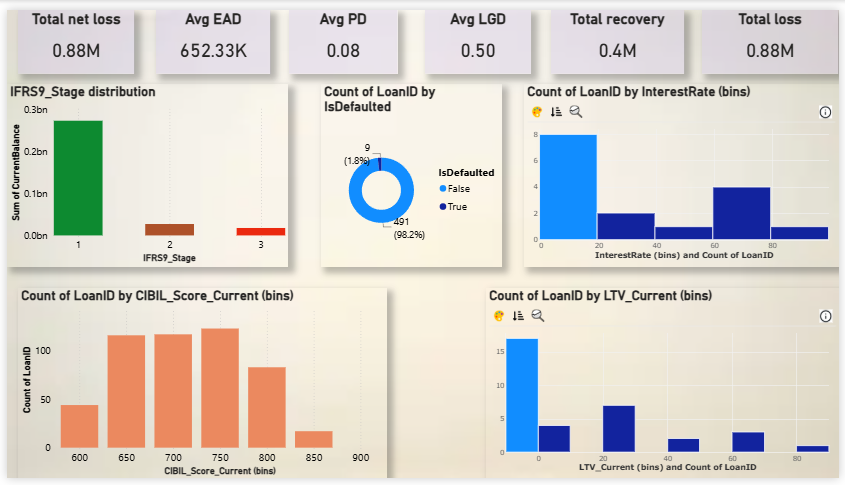

Layout of this report page (visuals, bound fields, positions):
{"tool":"powerbi","page":{"name":"portfolio risk dashboard","canvas":[1280,720],"ordinal":1},"visuals":[{"type":"kpi","title":"Avg PD ","fields":{"Indicator":["loans.Avg PD"],"TrendLine":["Date.Date"]},"box":[433.3,0,166.7,98.4],"z":0},{"type":"kpi","title":"Avg LGD ","fields":{"Indicator":["loans.Avg LGD"],"TrendLine":["Date.Date"]},"box":[642.9,0,163.5,98.4],"z":1000},{"type":"kpi","title":"Avg EAD ","fields":{"Indicator":["loans.Avg EAD"],"TrendLine":["Date.Date"]},"box":[228.6,0,176.2,98.4],"z":2000},{"type":"kpi","title":"Total net loss","fields":{"Indicator":["loans.Total net loss"],"TrendLine":["Date.Date"]},"box":[17.5,0,179.4,98.4],"z":3000},{"type":"kpi","title":"Total recovery ","fields":{"Indicator":["loans.Total recovery"],"TrendLine":["Date.Date"]},"box":[836.5,0,204.8,98.4],"z":4000},{"type":"kpi","title":"Total loss","fields":{"Indicator":["loans.Total net loss"],"TrendLine":["Date.Date"]},"box":[1069.8,0,209.5,98.4],"z":5000},{"type":"clusteredColumnChart","title":"IFRS9_Stage distribution","fields":{"Category":["loans.IFRS9_Stage"],"Y":["Sum(loans.CurrentBalance)"]},"box":[0,114.3,433.3,281],"z":6000},{"type":"donutChart","fields":{"Category":["loans.IsDefaulted"],"Y":["CountNonNull(loans.LoanID)"]},"box":[482.5,114.3,277.8,281],"z":7000},{"type":"histogramF963F133BA02A0B35D286F09F80E9C78","fields":{"col_2":["loans.InterestRate (bins)"],"col_4":["CountNonNull(loans.LoanID)"]},"box":[795.2,114.3,484.1,281],"z":8000},{"type":"histogramF963F133BA02A0B35D286F09F80E9C78","fields":{"col_2":["loans.LTV_Current (bins)"],"col_4":["CountNonNull(loans.LoanID)"]},"box":[736.5,427,542.9,293.7],"z":9000},{"type":"clusteredColumnChart","fields":{"Category":["loans.CIBIL_Score_Current (bins)"],"Y":["Count(loans.LoanID)"]},"box":[17.5,427,566.7,293.7],"z":10000}]}

Visuals, with their boxes in screenshot pixels (x1, y1, x2, y2), scaled from the page's 1280x720 canvas onto the 845x485 screenshot:
"Avg PD " kpi: 286:0:396:66
"Avg LGD " kpi: 424:0:532:66
"Avg EAD " kpi: 151:0:267:66
"Total net loss" kpi: 12:0:130:66
"Total recovery " kpi: 552:0:687:66
"Total loss" kpi: 706:0:844:66
"IFRS9_Stage distribution" clusteredColumnChart: 0:77:286:266
donutChart - loans.IsDefaulted x CountNonNull(loans.LoanID): 319:77:502:266
histogramF963F133BA02A0B35D286F09F80E9C78 - loans.InterestRate (bins) x CountNonNull(loans.LoanID): 525:77:844:266
histogramF963F133BA02A0B35D286F09F80E9C78 - loans.LTV_Current (bins) x CountNonNull(loans.LoanID): 486:288:844:484
clusteredColumnChart - loans.CIBIL_Score_Current (bins) x Count(loans.LoanID): 12:288:386:484
